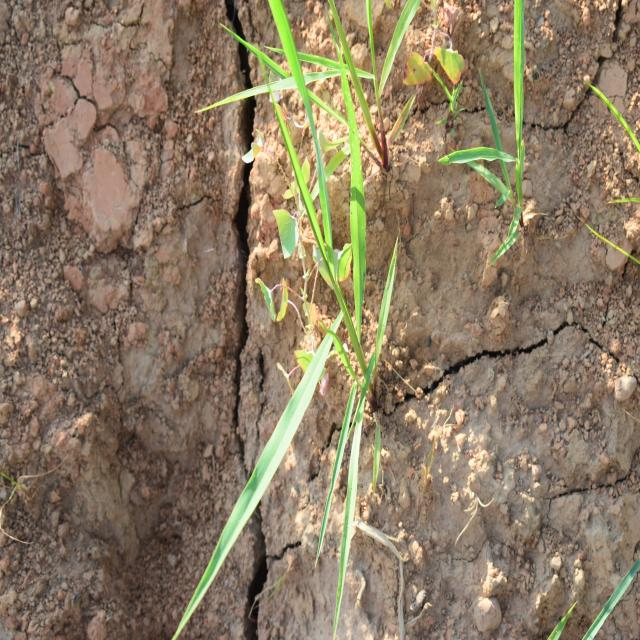green_foxtail: (225, 190, 412, 555), (431, 12, 554, 242)
